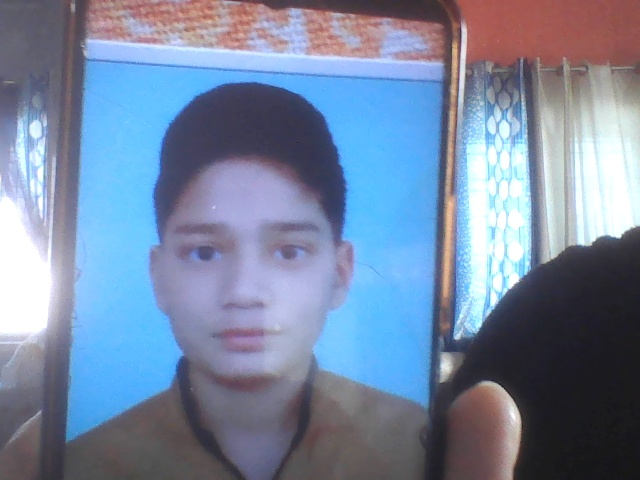fake: (135, 82, 367, 411)
